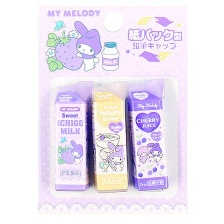bottle: (100, 39, 120, 71)
carton: (48, 79, 92, 194), (131, 76, 174, 193), (89, 89, 131, 199)
